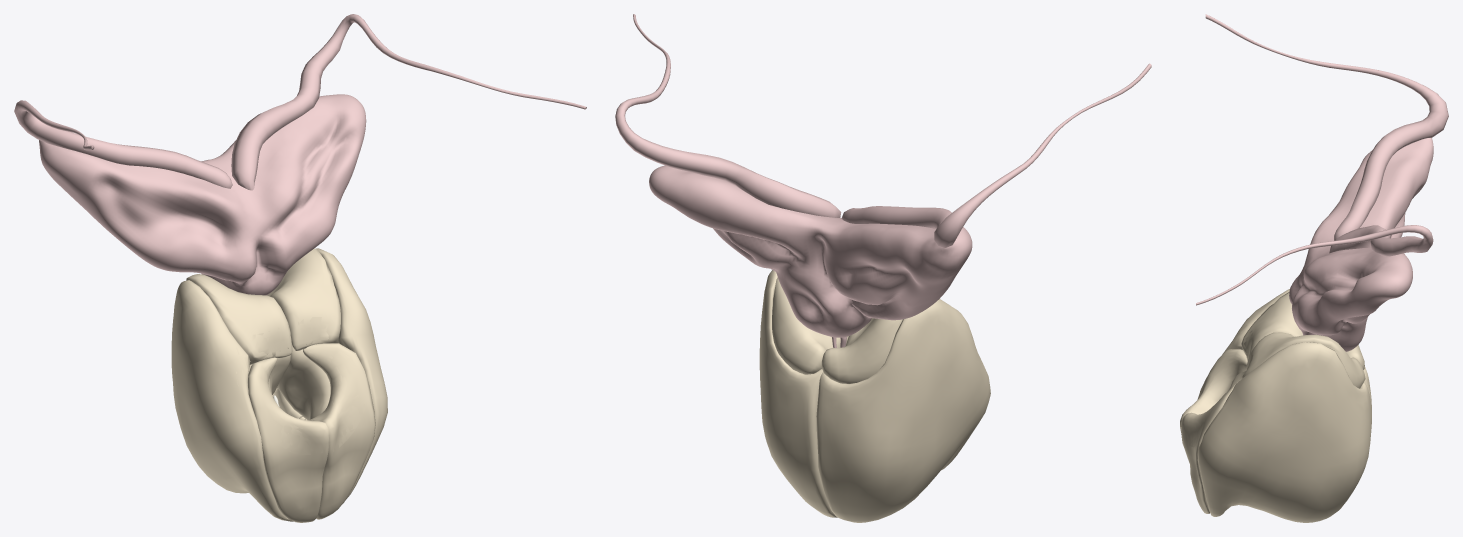
File: 3d-vh-m-prostate.glb
3 renders of one model, left to right at view 1: azimuth 30°, elevation 25°; view 2: azimuth 150°, elevation 25°; view 3: azimuth 270°, elevation 25°, orthographic. The views are drawn at different scales.
Parts seen in each view (by area): view 1: VH_M_seminal_vesicle, VH_M_peripheral_zone_of_prostate_R, VH_M_anterior_fibromuscular_stroma_R, VH_M_anterior_fibromuscular_stroma_L, VH_M_vas_deferens_R, VH_M_vas_deferens_L, VH_M_central_zone_of_prostate_L, VH_M_peripheral_zone_of_prostate_L, VH_M_central_zone_of_prostate_R, VH_M_base_of_prostate, VH_M_transition_zone__of_prostate_L; view 2: VH_M_peripheral_zone_of_prostate_R, VH_M_seminal_vesicle, VH_M_peripheral_zone_of_prostate_L, VH_M_vas_deferens_R, VH_M_vas_deferens_L, VH_M_central_zone_of_prostate_R, VH_M_central_zone_of_prostate_L; view 3: VH_M_peripheral_zone_of_prostate_L, VH_M_seminal_vesicle, VH_M_vas_deferens_L, VH_M_vas_deferens_R, VH_M_central_zone_of_prostate_L, VH_M_central_zone_of_prostate_R, VH_M_anterior_fibromuscular_stroma_L, VH_M_anterior_fibromuscular_stroma_R, VH_M_base_of_prostate, VH_M_peripheral_zone_of_prostate_R.
Boxes of the visible parts, x1,y1,x2,y2 form: VH_M_seminal_vesicle: [39, 94, 366, 295]; VH_M_peripheral_zone_of_prostate_R: [171, 280, 293, 521]; VH_M_anterior_fibromuscular_stroma_R: [248, 357, 329, 522]; VH_M_anterior_fibromuscular_stroma_L: [303, 343, 375, 519]; VH_M_vas_deferens_R: [231, 14, 586, 190]; VH_M_vas_deferens_L: [14, 100, 232, 188]; VH_M_central_zone_of_prostate_L: [267, 248, 340, 387]; VH_M_peripheral_zone_of_prostate_L: [272, 248, 387, 499]; VH_M_central_zone_of_prostate_R: [186, 274, 292, 364]; VH_M_base_of_prostate: [236, 317, 367, 454]; VH_M_transition_zone__of_prostate_L: [277, 346, 330, 420]; VH_M_peripheral_zone_of_prostate_R: [816, 299, 990, 522]; VH_M_seminal_vesicle: [649, 165, 972, 337]; VH_M_peripheral_zone_of_prostate_L: [759, 270, 837, 517]; VH_M_vas_deferens_R: [615, 14, 841, 217]; VH_M_vas_deferens_L: [841, 63, 1151, 247]; VH_M_central_zone_of_prostate_R: [821, 318, 902, 383]; VH_M_central_zone_of_prostate_L: [772, 277, 848, 374]; VH_M_peripheral_zone_of_prostate_L: [1197, 342, 1371, 522]; VH_M_seminal_vesicle: [1289, 138, 1433, 351]; VH_M_vas_deferens_L: [1205, 14, 1448, 240]; VH_M_vas_deferens_R: [1196, 225, 1433, 305]; VH_M_central_zone_of_prostate_L: [1241, 332, 1365, 388]; VH_M_central_zone_of_prostate_R: [1241, 292, 1364, 369]; VH_M_anterior_fibromuscular_stroma_L: [1181, 379, 1240, 513]; VH_M_anterior_fibromuscular_stroma_R: [1180, 349, 1247, 443]; VH_M_base_of_prostate: [1182, 325, 1253, 447]; VH_M_peripheral_zone_of_prostate_R: [1200, 289, 1371, 409].
Bounding box in the file's own units: 0.083 × 0.0706 × 0.0428.
